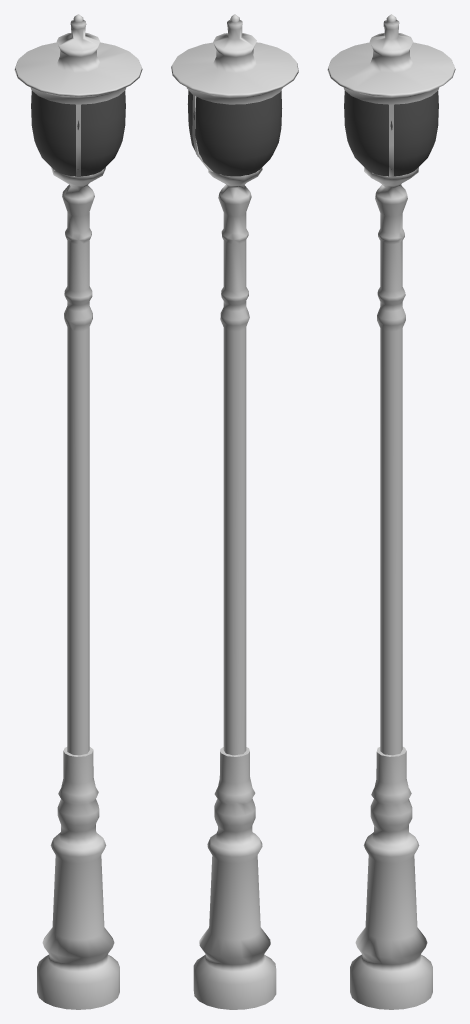
Rendered from sm_lamp_005.glb.
The picture shows the model from 3 angles, left to right: view 1: azimuth 90°, elevation 25°; view 2: azimuth 210°, elevation 25°; view 3: azimuth 270°, elevation 25°; orthographic projection.
Visible parts, largest first — view 1: sm_lamp_005; view 2: sm_lamp_005; view 3: sm_lamp_005.
Boxes of the visible parts, box(x1,y1,x2,y2) form: sm_lamp_005: box(14, 14, 142, 1009); sm_lamp_005: box(171, 14, 298, 1009); sm_lamp_005: box(327, 14, 455, 1009).
Size of the model in its own units: 0.3714 by 3.13 by 0.3714.
2 materials, 1 textured.
